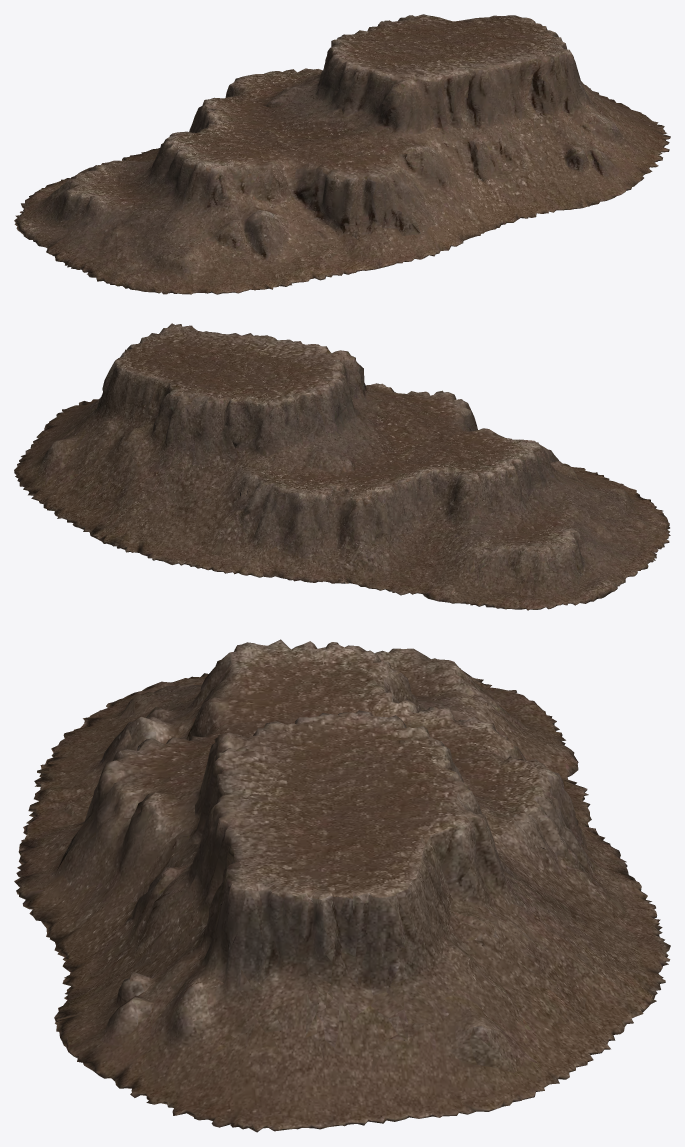
The model's file is mesa_hill.glb.
3 renders of one model, top to bottom at view 1: azimuth 30°, elevation 25°; view 2: azimuth 150°, elevation 25°; view 3: azimuth 270°, elevation 25°, orthographic. The views are drawn at different scales.
Parts seen in each view (by area): view 1: mesa_hill_00; view 2: mesa_hill_00; view 3: mesa_hill_00.
Boxes of the visible parts, x1,y1,x2,y2 form: mesa_hill_00: (14, 14, 670, 294); mesa_hill_00: (14, 323, 670, 610); mesa_hill_00: (14, 639, 670, 1132).
Size of the model in its own units: 1.89 by 0.3639 by 1.13.
1 material, 1 textured.
